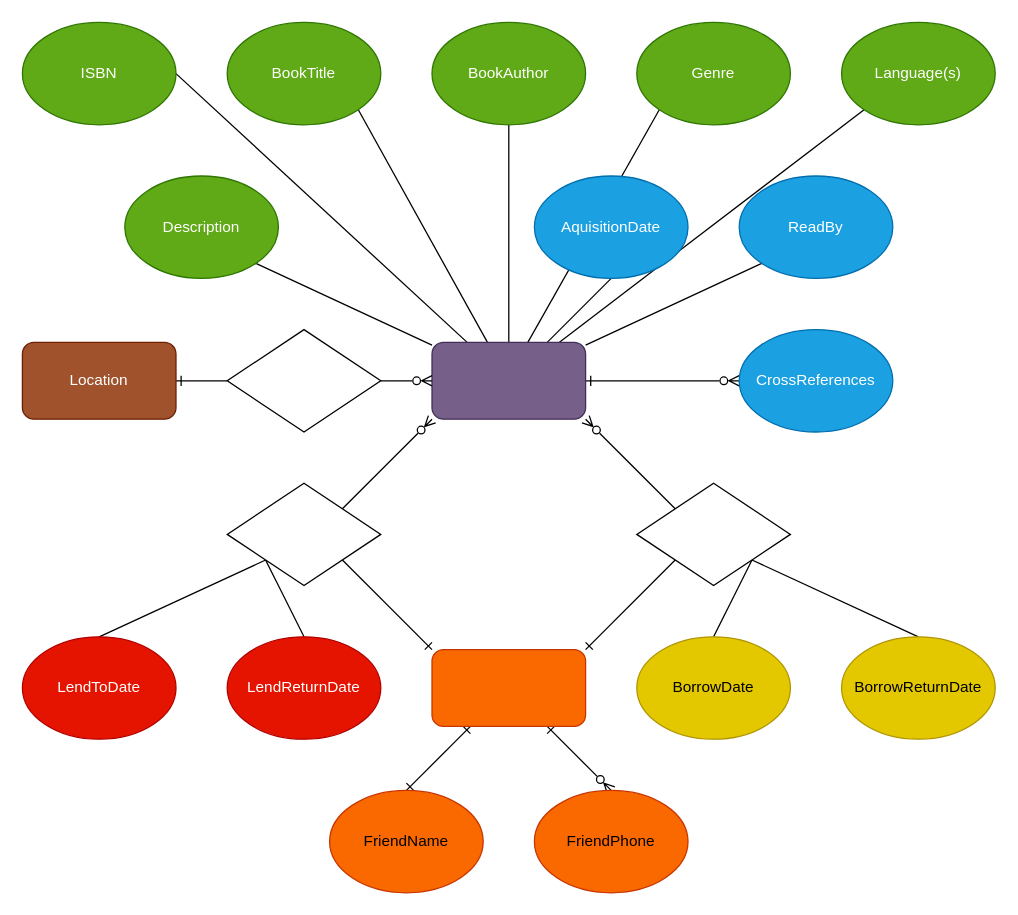
The diagram is 1018 pixels wide and 915 high, and some of its shapes have lost their labels. Each missing label, with the centre of its shape:
"Book" goes at pixel 508 380.
"BorrowFrom" goes at pixel 713 534.
"Friend" goes at pixel 508 687.
"LendTo" goes at pixel 303 534.
"StoredAt" goes at pixel 303 380.
